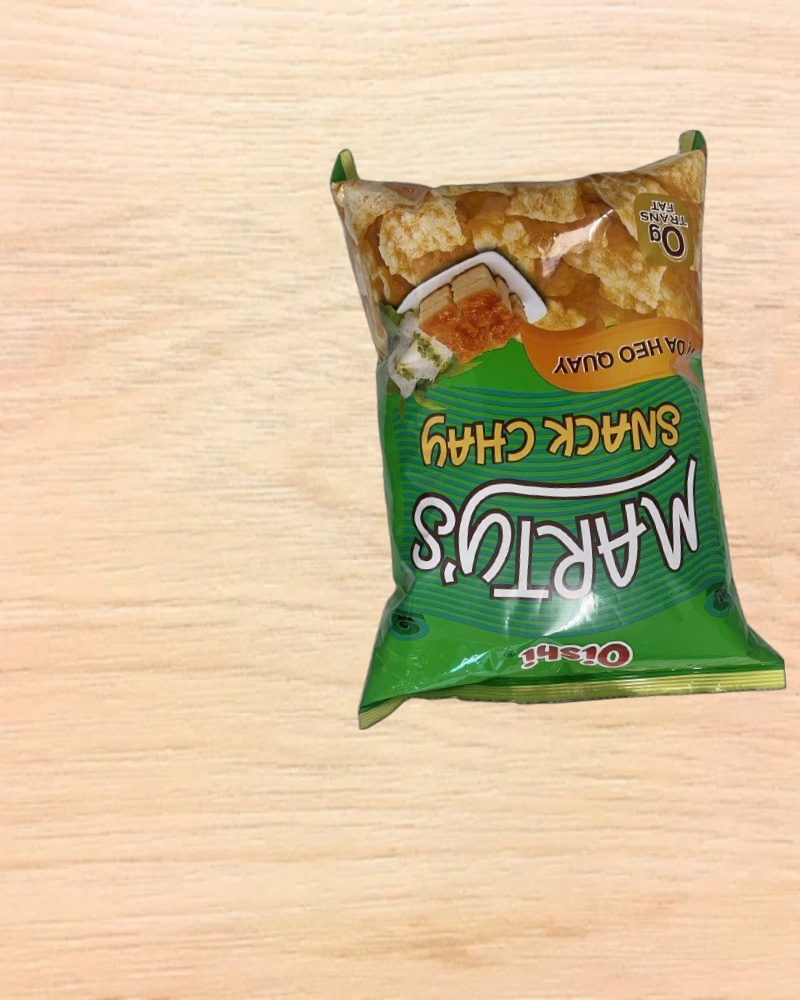Snack chay: (330, 117, 786, 729)
